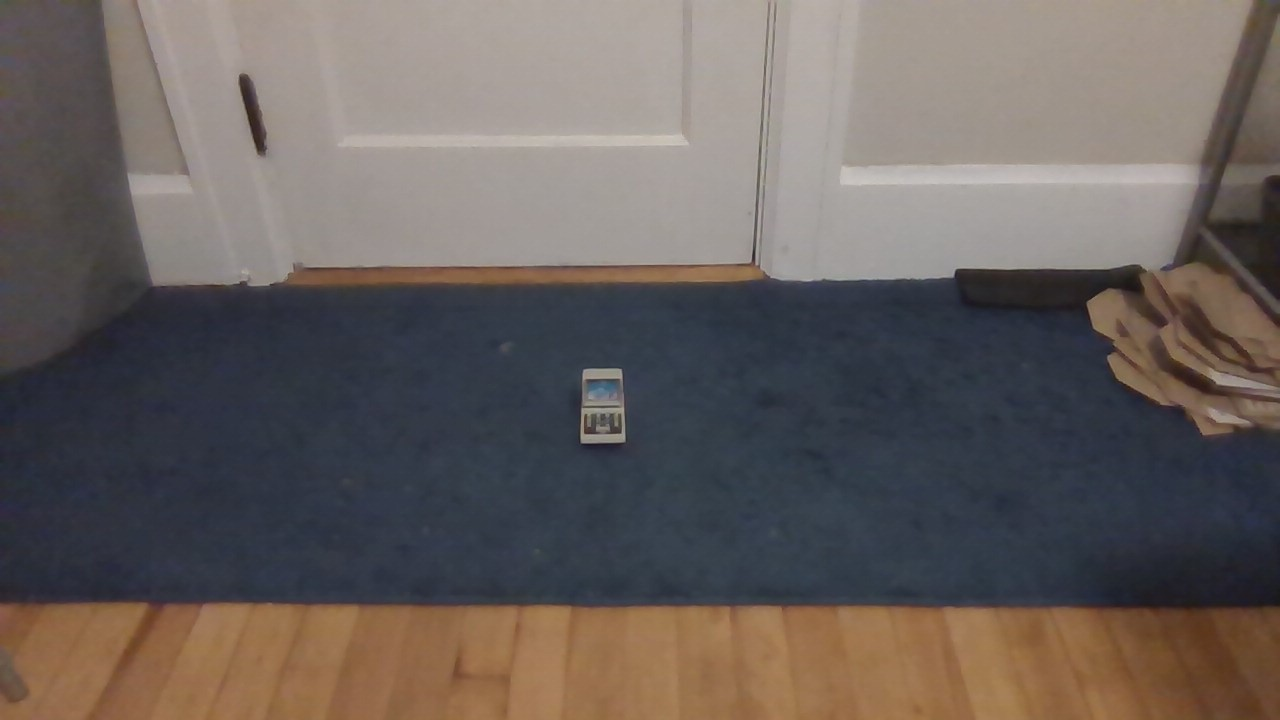Toy: (559, 355, 644, 457)
